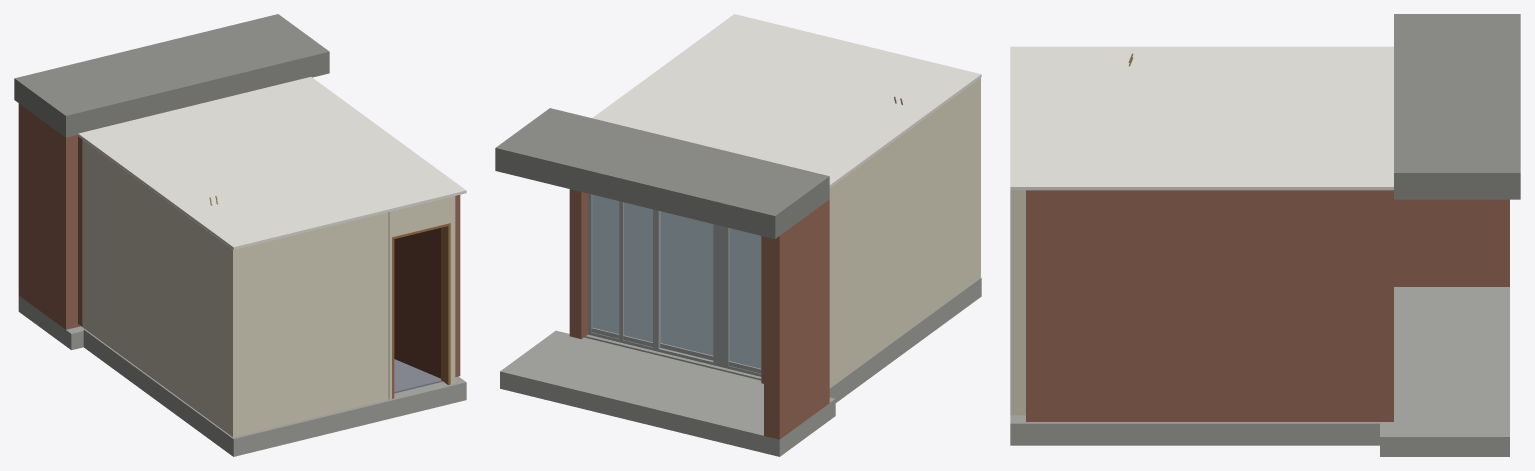
The model's file is office.glb.
3 renders of one model, left to right at view 1: azimuth 30°, elevation 25°; view 2: azimuth 150°, elevation 25°; view 3: azimuth 270°, elevation 25°, orthographic. The views are drawn at different scales.
Parts seen in each view (by area): view 1: wallS__47, ceiling__1, wallW__50, soffit__36, balconyEnd__0, floor__2, wallS__43, wallS__46, wallE__37, wallN__41, floor__3; view 2: ceiling__1, wallW__50, soffit__36, floor__2, wallN__42, balconyEnd__0, wallS__47, wallN__38, wallN__41; view 3: wallE__37, ceiling__1, floor__2, soffit__36, balconyEnd__0, wallS__47, wallN__41.
Boxes of the visible parts, x1,y1,x2,y2 form: wallS__47: (200,196,455,436); ceiling__1: (78,77,466,249); wallW__50: (82,139,199,412); soffit__36: (14,14,329,137); balconyEnd__0: (18,103,80,329); floor__2: (18,295,466,456); wallS__43: (394,228,440,378); wallS__46: (392,223,450,398); wallE__37: (455,195,460,377); wallN__41: (78,136,82,326); floor__3: (394,359,442,393); ceiling__1: (592,14,981,187); wallW__50: (829,103,945,386); soffit__36: (495,108,829,238); floor__2: (500,277,981,456); wallN__42: (592,194,761,368); balconyEnd__0: (764,199,829,439); wallS__47: (946,77,980,301); wallN__38: (588,193,761,376); wallN__41: (569,189,763,383); wallE__37: (1026,190,1383,421); ceiling__1: (1010,46,1393,190); floor__2: (1010,287,1509,456); soffit__36: (1394,14,1520,199); balconyEnd__0: (1394,199,1509,286); wallS__47: (1010,190,1025,415); wallN__41: (1383,190,1393,421).
Size of the model in its own units: 3.56 by 2.96 by 4.83.
